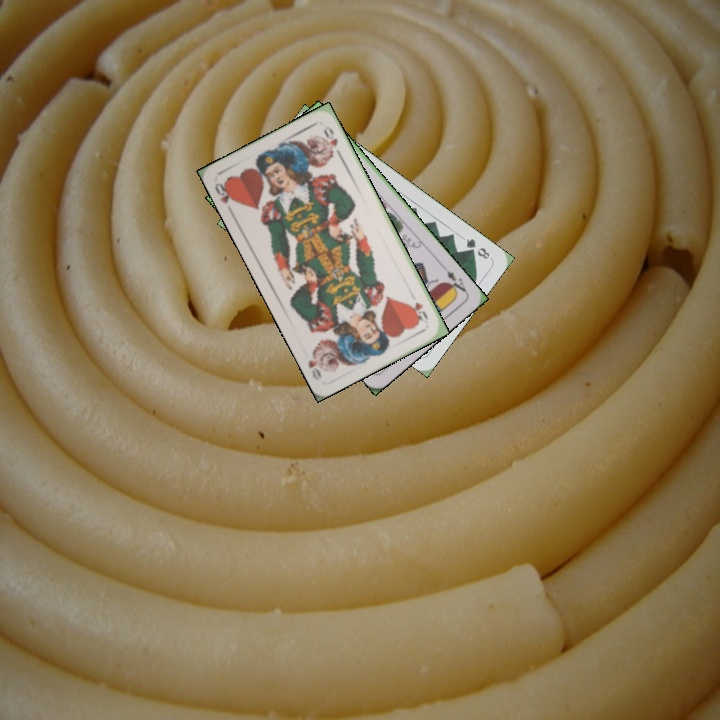EA: (439, 262, 470, 297)
G8: (462, 234, 493, 262)
HO: (210, 177, 240, 207), (408, 298, 431, 324)
